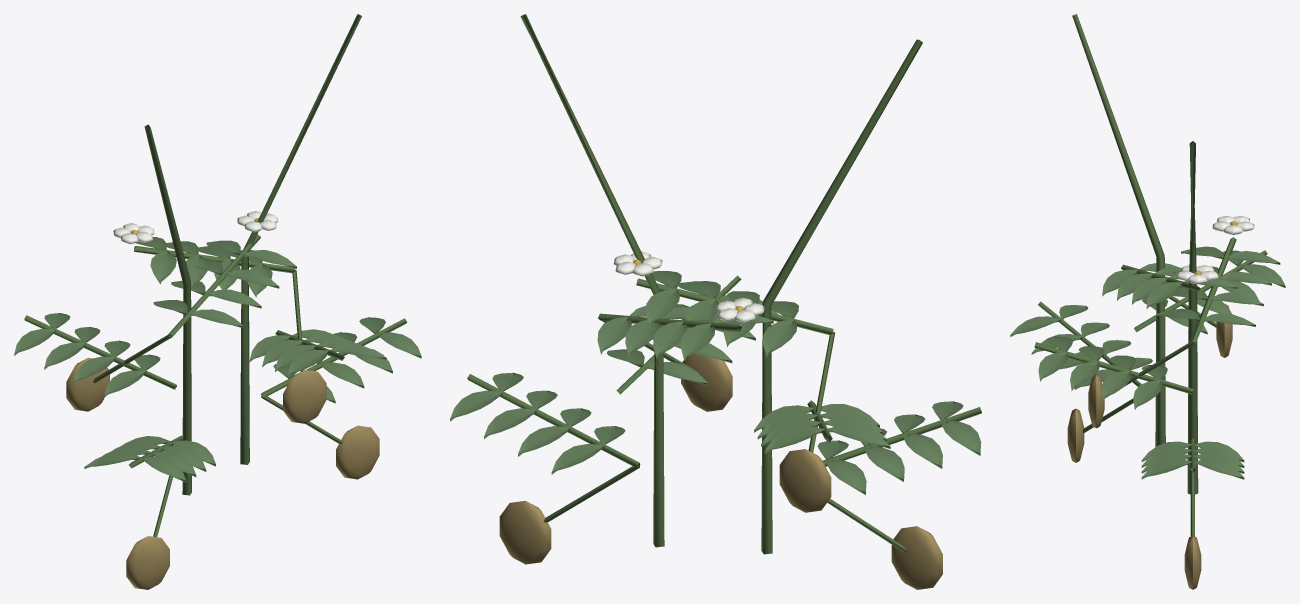
Rendered from lenteja.glb.
The picture shows the model from 3 angles, left to right: view 1: azimuth 30°, elevation 25°; view 2: azimuth 150°, elevation 25°; view 3: azimuth 270°, elevation 25°; orthographic projection. The views are drawn at different scales.
Parts seen in each view (by area): view 1: lenteja; view 2: lenteja; view 3: lenteja.
Boxes of the visible parts, x1,y1,x2,y2 form: lenteja: (14, 14, 421, 589); lenteja: (450, 14, 981, 589); lenteja: (1010, 14, 1285, 589).
Bounding box in the file's own units: 0.3953 × 0.4655 × 0.2597.
